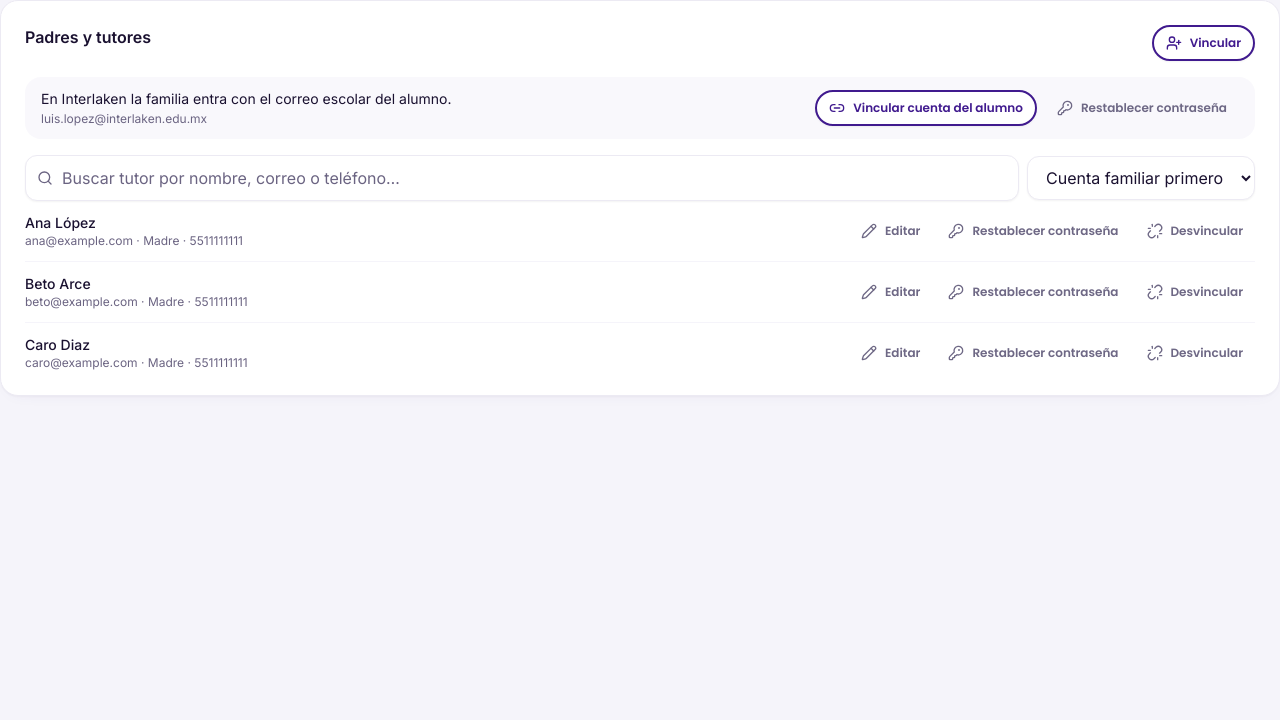
Scenario: StudentGuardians search and sort (Data Ops Phase 3) › shows the tools past two guardians and sends q and ordering to the API
The image size is (1280, 720).
Expected: the text "Beto Arce" is shown, [25,275,91,292]
Select "Correo" in the dropdown named "Ordenar tutores" at (1141, 178), box [1027,156,1255,200]
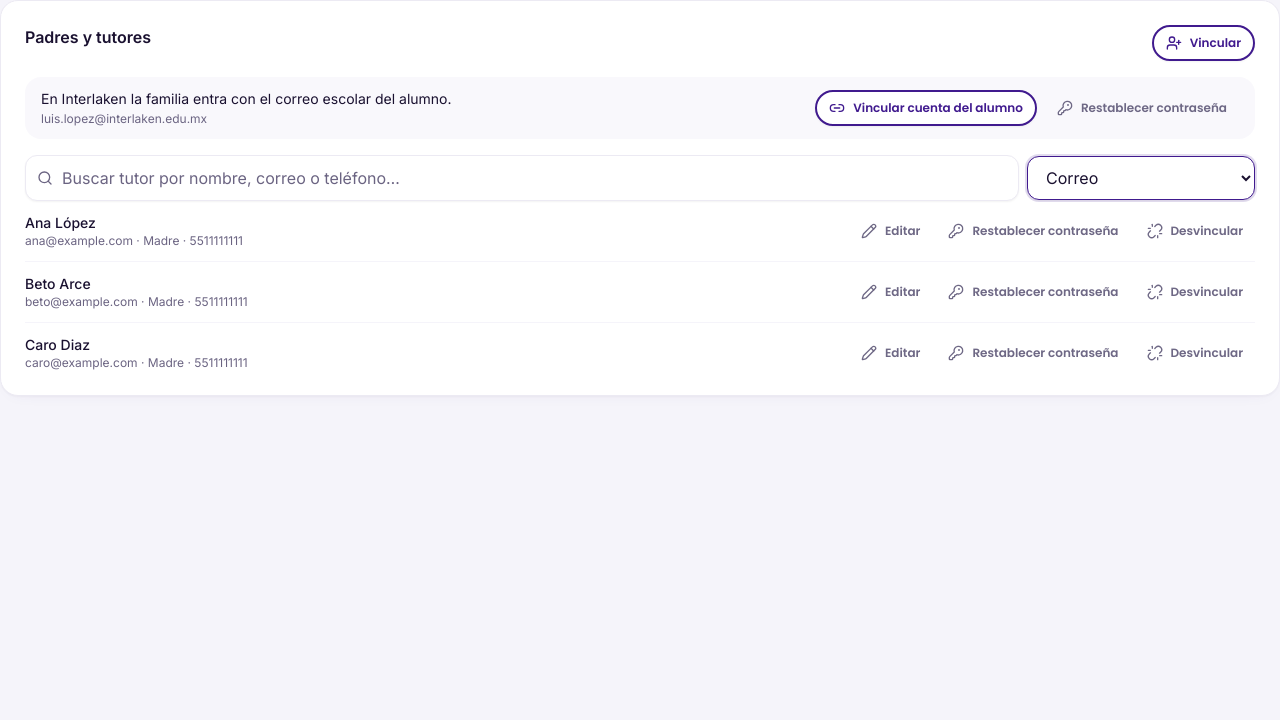
Type "zz" into the field named "Buscar tutores" at (522, 178), box [25,155,1019,201]
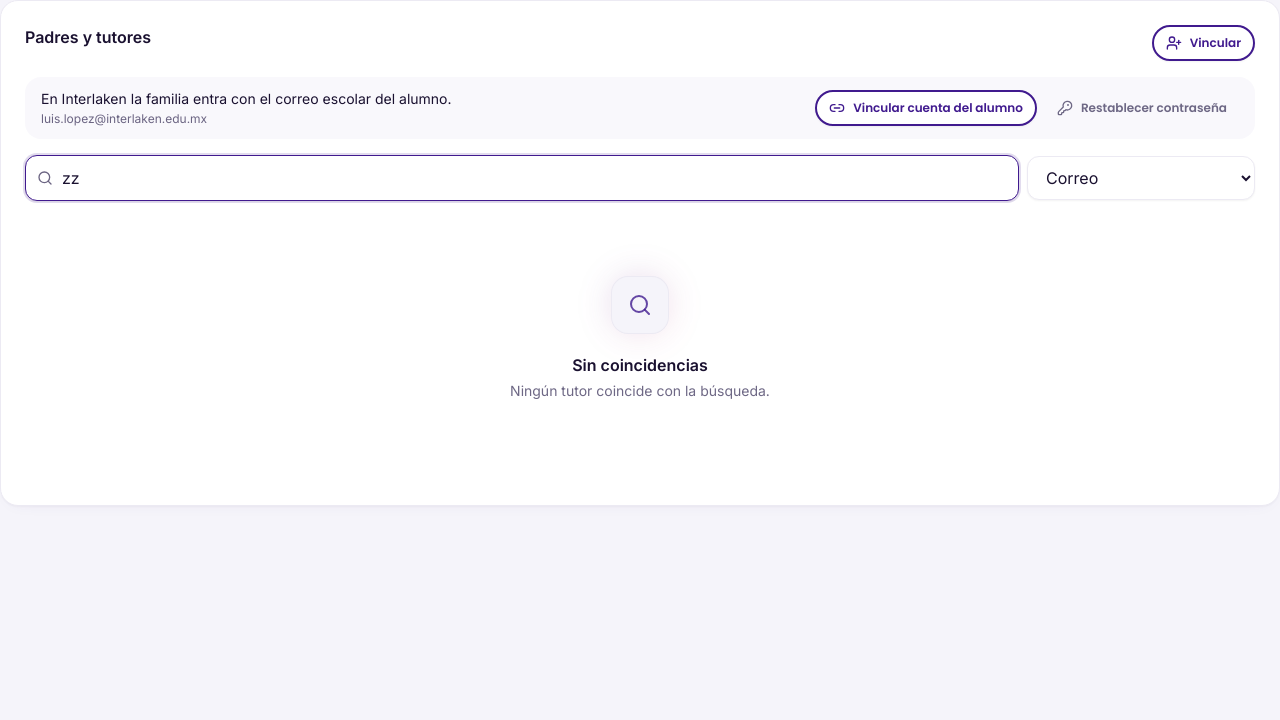
Now the heading "Sin coincidencias" is shown, box [572,353,708,377]
